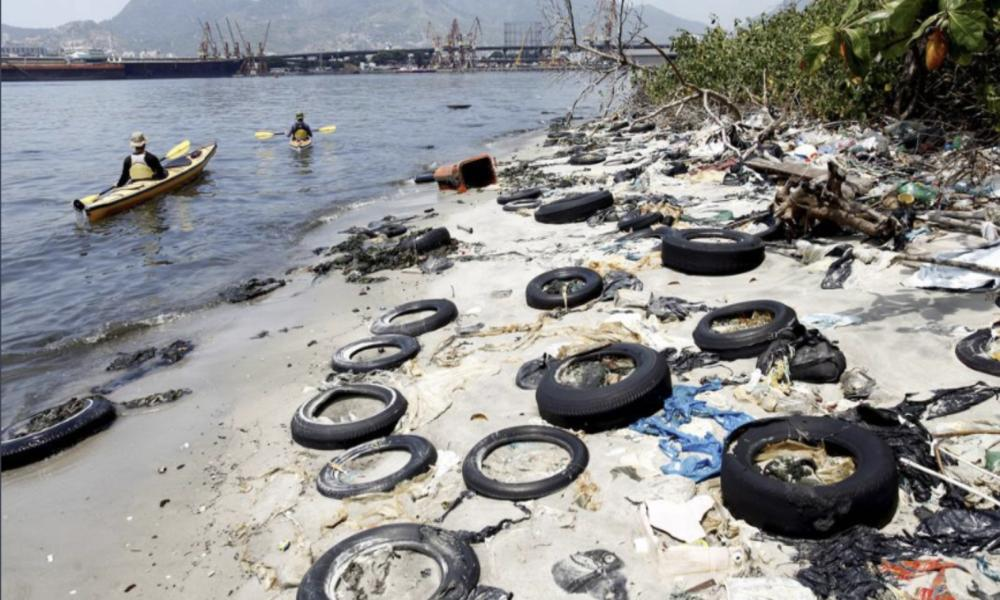tire: (719, 412, 906, 542), (288, 513, 483, 600), (462, 415, 596, 517), (0, 384, 117, 490), (466, 417, 594, 511), (536, 348, 676, 426), (308, 423, 444, 502), (282, 374, 414, 445), (654, 218, 770, 284), (694, 295, 807, 359), (368, 288, 461, 346), (335, 332, 428, 379), (525, 264, 604, 316), (537, 188, 620, 232), (382, 224, 454, 272), (955, 317, 1000, 390), (493, 184, 545, 220)
